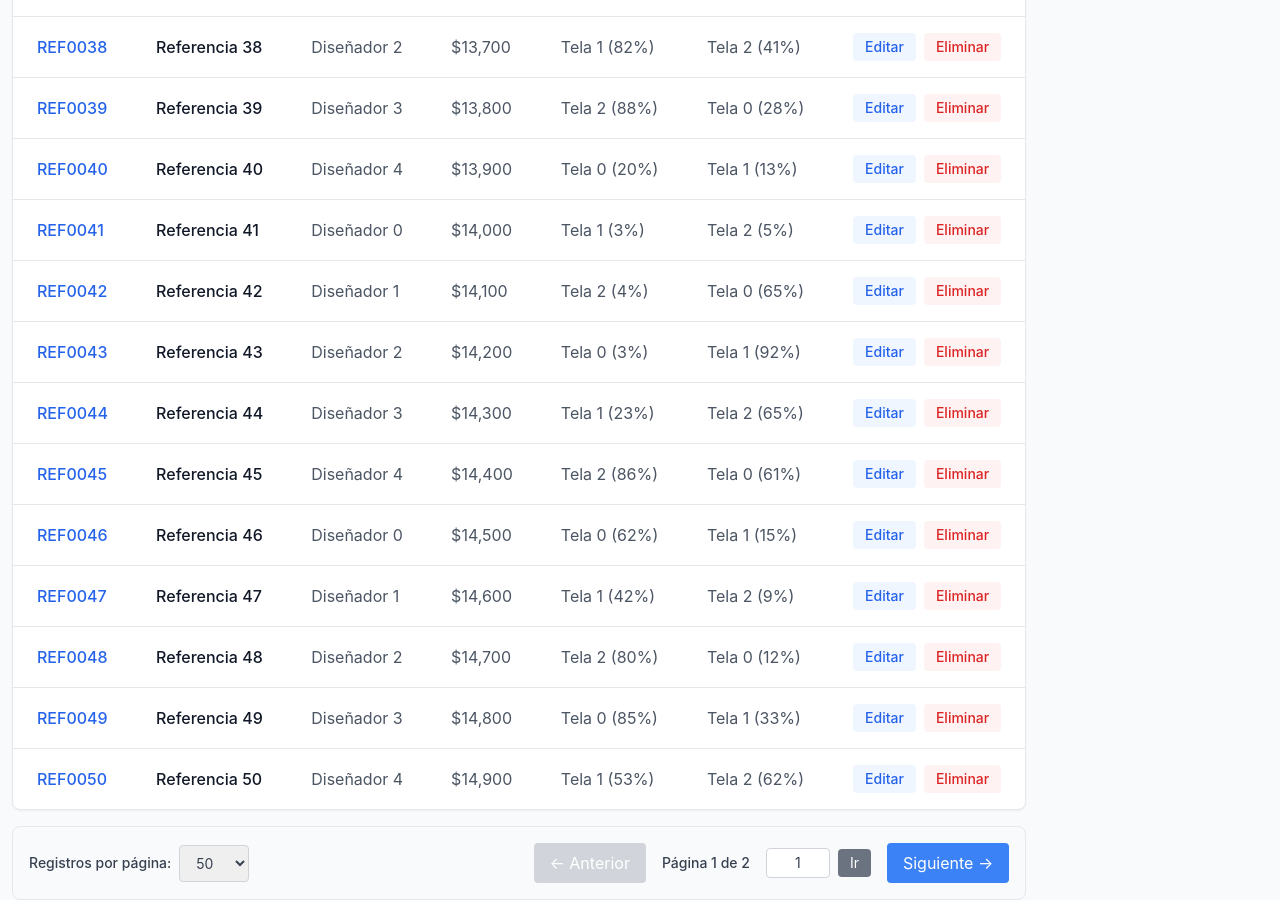
Test case: ReferencesModule Unit Tests › Pagination › should navigate to next page
This screenshot has width=1280, height=900.
(page scrolled)
Click the button "Siguiente →" at (948, 863), box 887,843 -> 1009,883
(page scrolled)
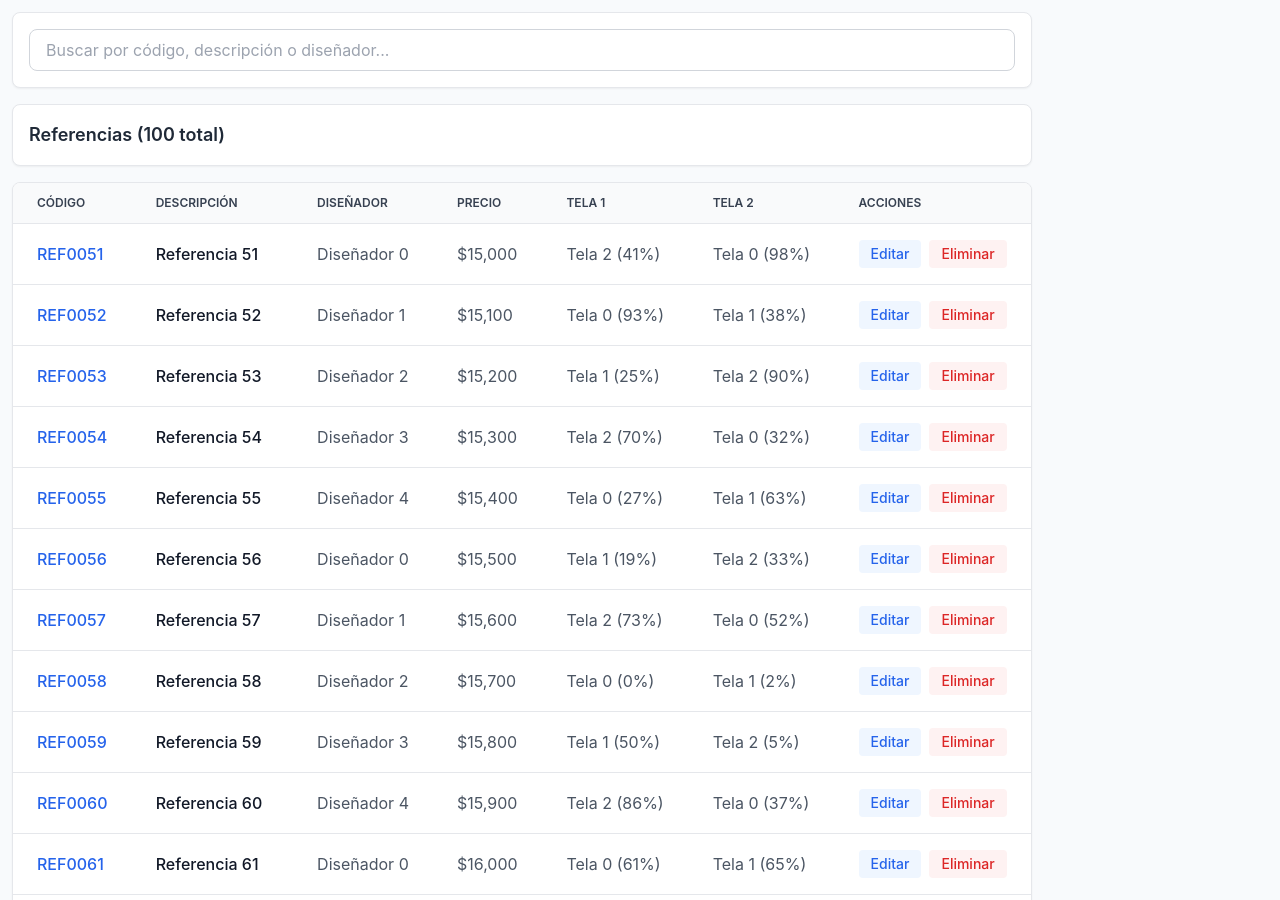
Check: the text "Referencia 51" is shown, box 132,224 -> 293,284
